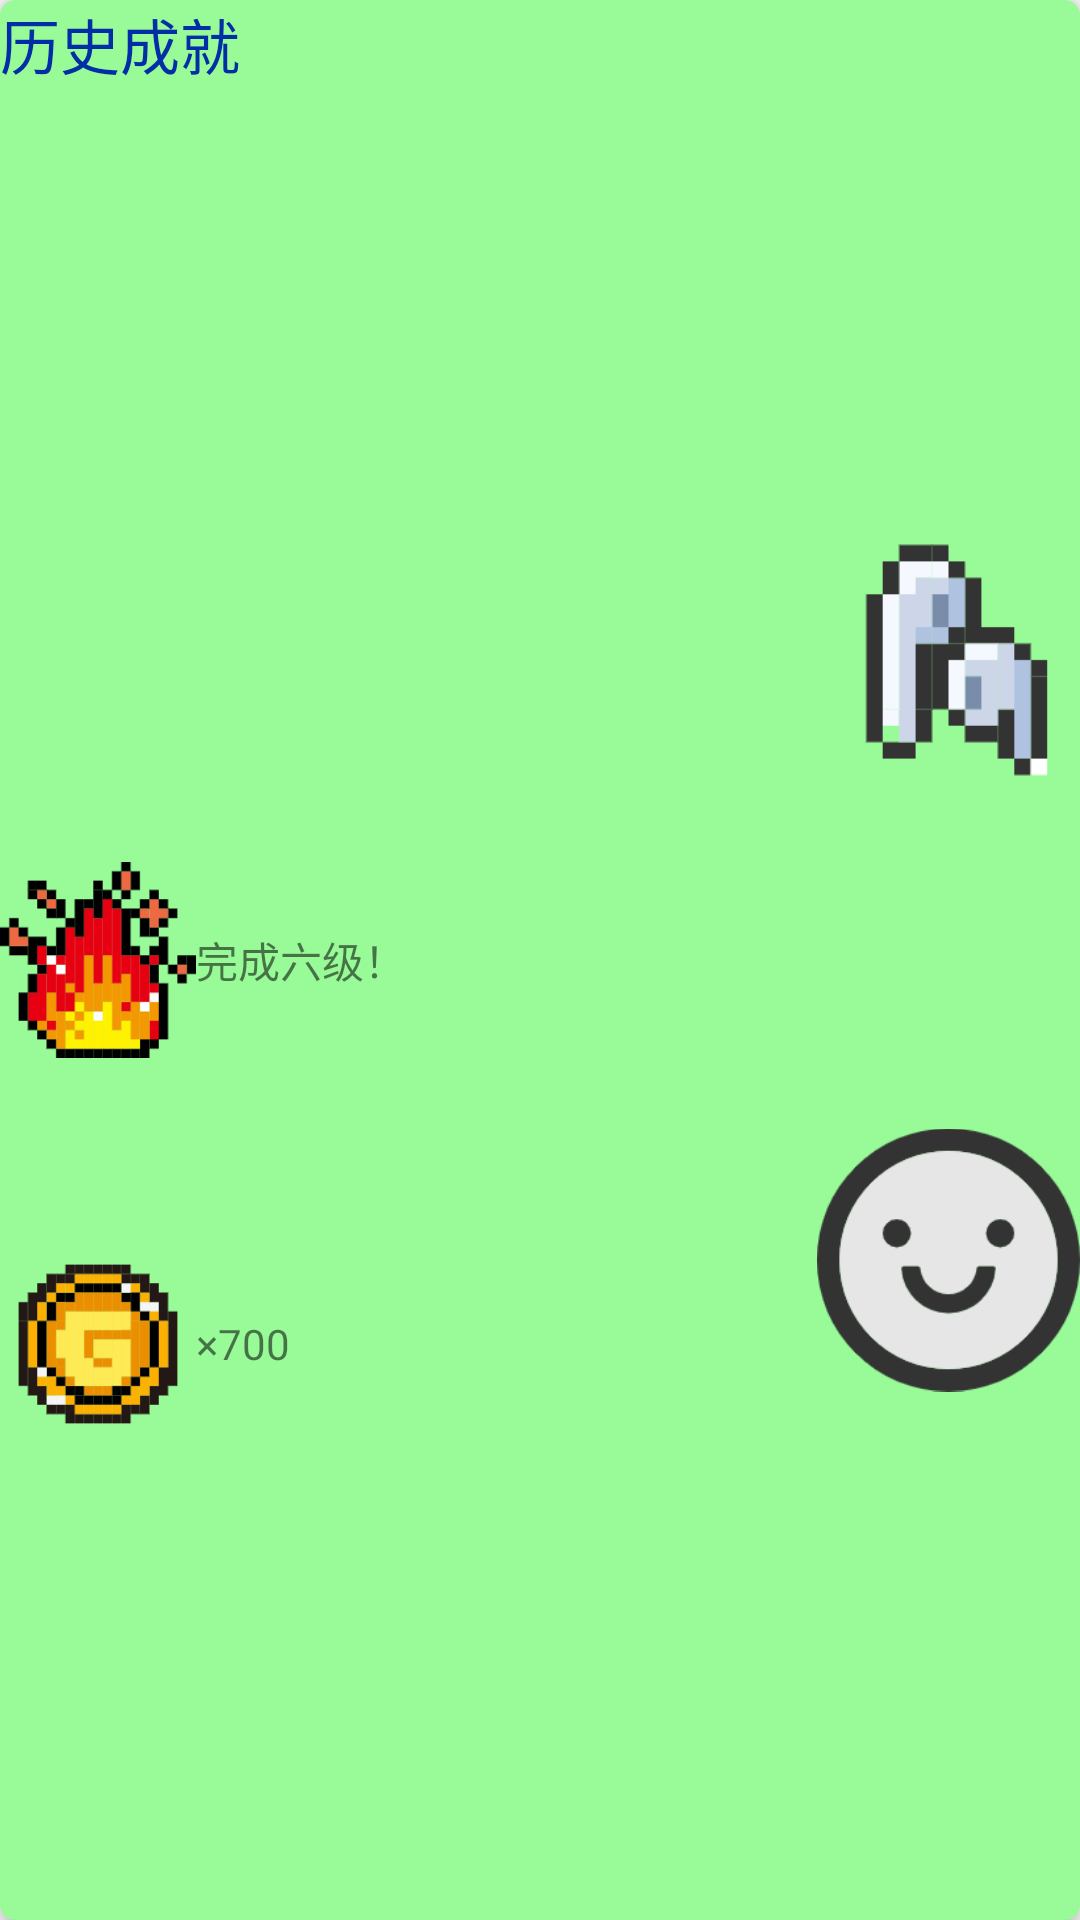

Named icons in this screenshot (1080w x 1920h) and their centers, point (x, y):
coin pixel: point (98, 1344)
earphone: point (956, 660)
fire pixel: point (98, 960)
smile: point (948, 1260)
